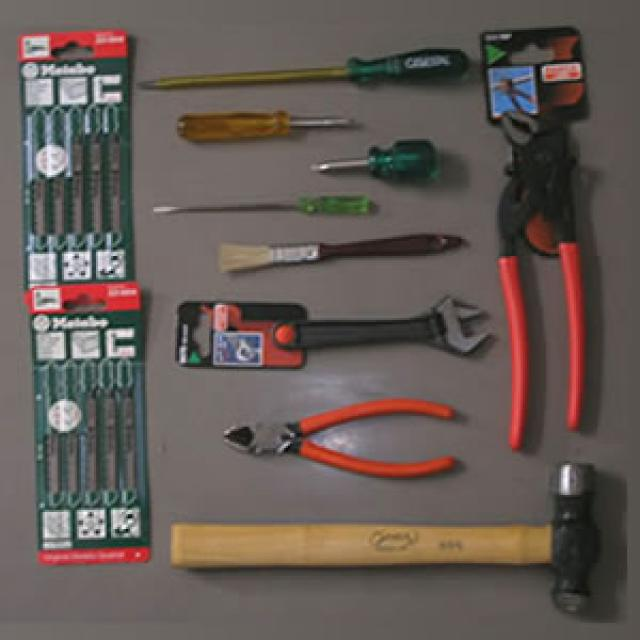screw driver: (124, 39, 470, 101), (168, 95, 376, 166), (152, 179, 389, 231), (300, 133, 459, 199)
